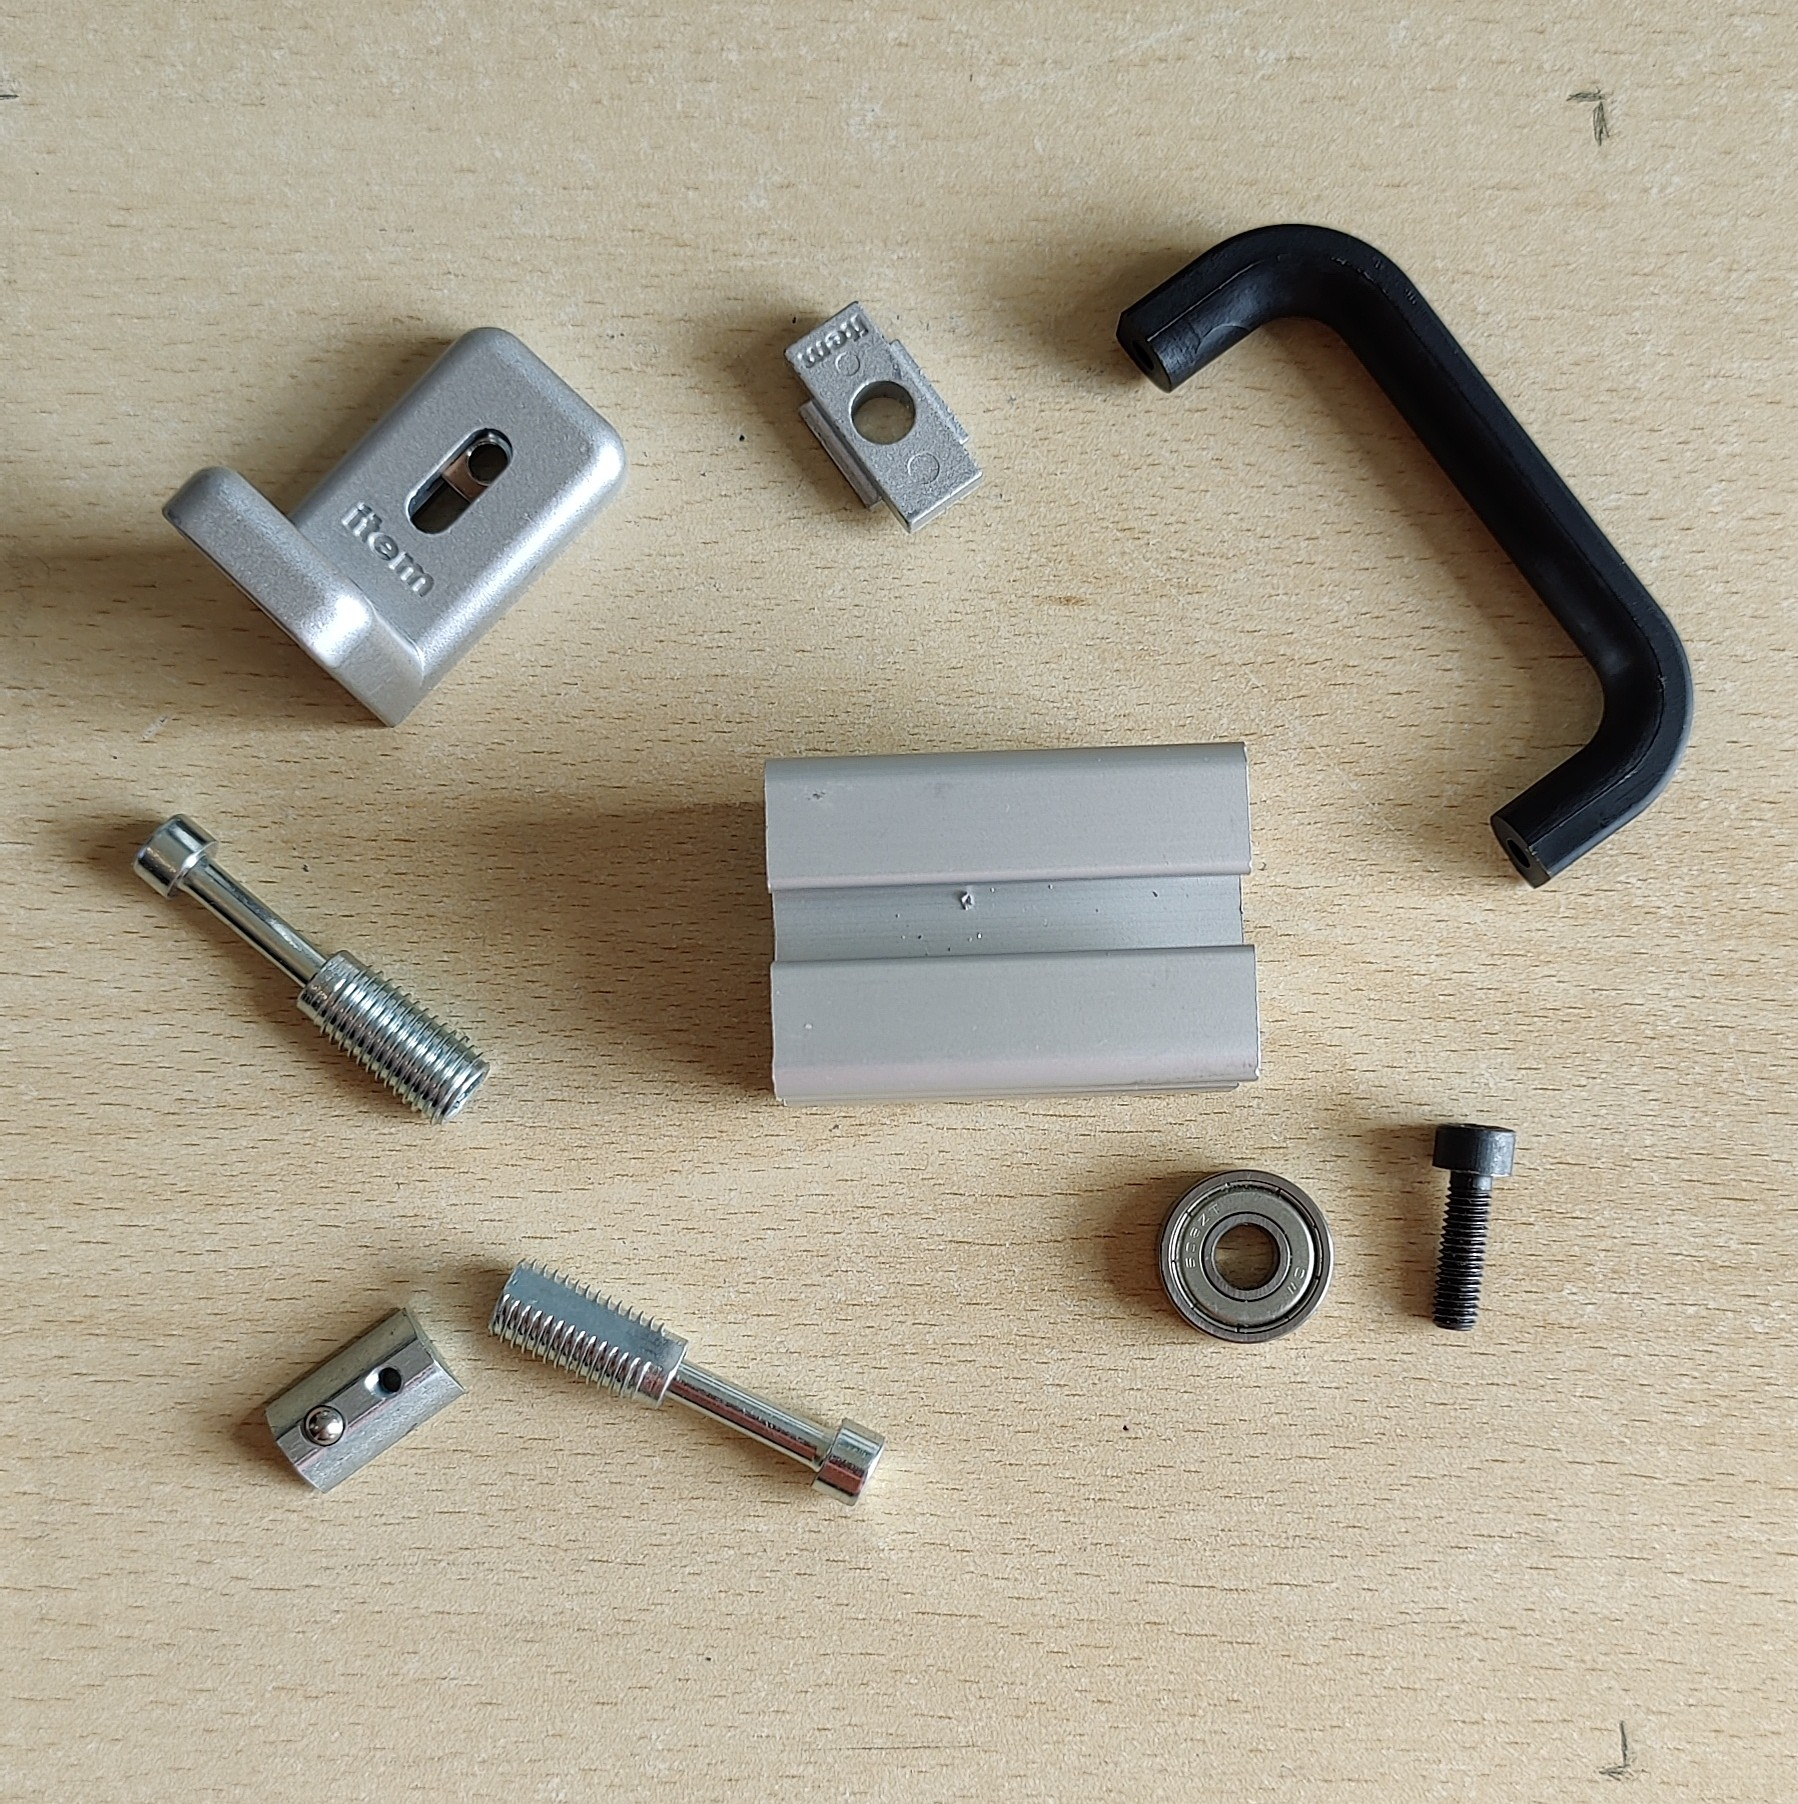Aluminium Extension: (759, 736, 1261, 1113)
Ball Bearing: (1153, 1165, 1334, 1345)
Multiwinkel: (158, 323, 632, 731)
Pull Handle: (1113, 221, 1696, 889)
Shoulder Socket Head Cap Screw: (130, 811, 499, 1129), (484, 1256, 889, 1514)
Socket Head Cap Screw: (1426, 1118, 1520, 1333)
T Nut Square: (780, 295, 991, 538)
T Spring Nut: (262, 1300, 469, 1496)
